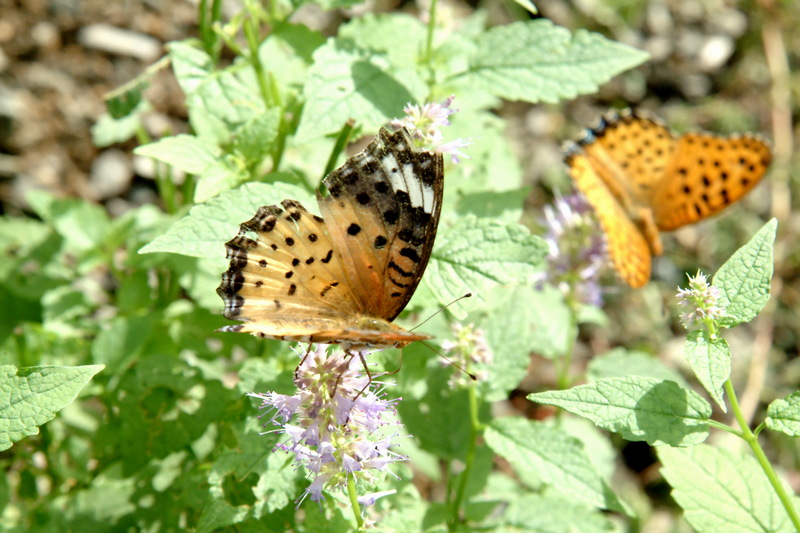Argyreus hyperbius: (209, 120, 479, 419), (555, 101, 782, 290)
butterfly: (211, 122, 481, 421), (557, 103, 784, 292)
